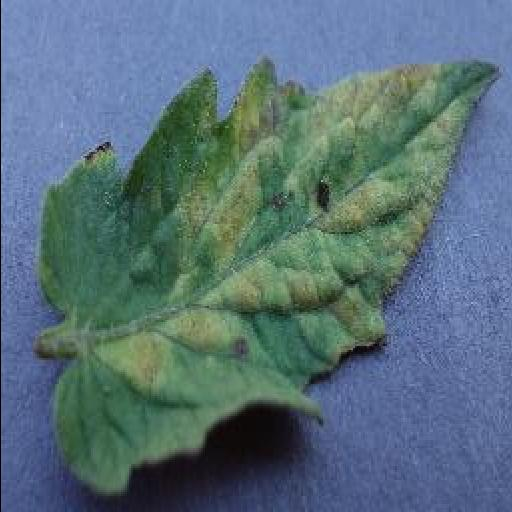disease_tomato: (40, 58, 504, 495)
